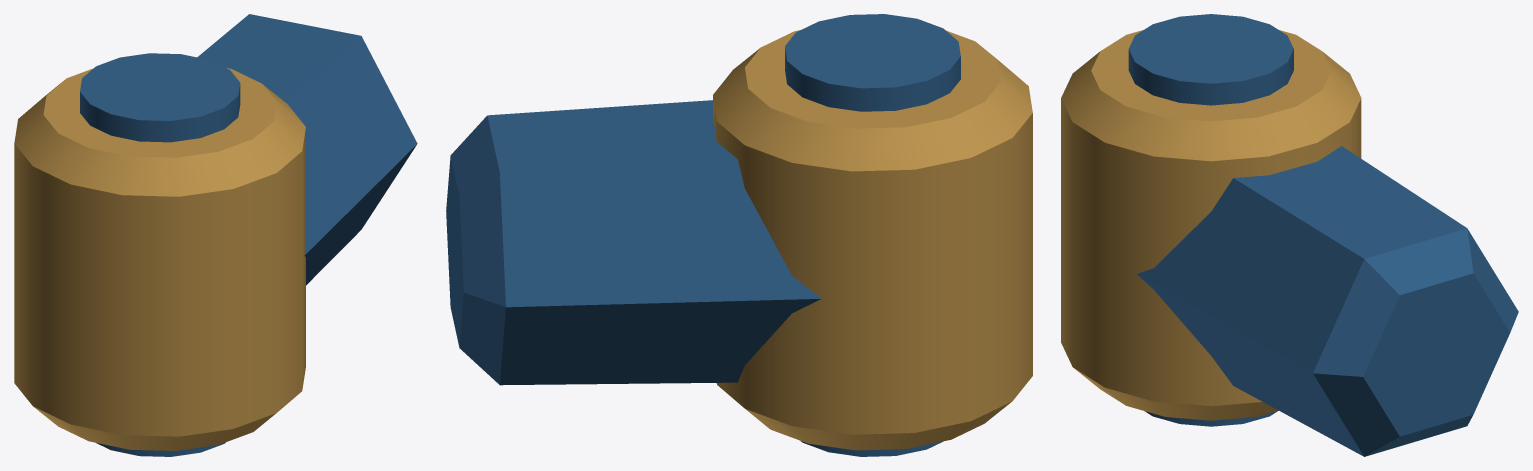
File: rm2_leg_rl_coxa.obj
The picture shows the model from 3 angles, left to right: view 1: azimuth 30°, elevation 25°; view 2: azimuth 150°, elevation 25°; view 3: azimuth 270°, elevation 25°; orthographic projection. The views are drawn at different scales.
Parts seen in each view (by area): view 1: rm2_leg_rl_coxa; view 2: rm2_leg_rl_coxa; view 3: rm2_leg_rl_coxa.
Boxes of the visible parts, <box> form: rm2_leg_rl_coxa: <box>14,14,417,456</box>; rm2_leg_rl_coxa: <box>446,14,1032,456</box>; rm2_leg_rl_coxa: <box>1061,14,1518,456</box>.
Size of the model in its own units: 0.1735 by 0.126 by 0.1524.
